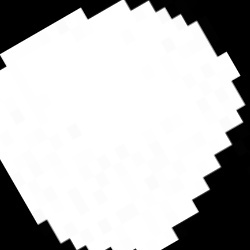spot: (1, 1, 246, 249)
